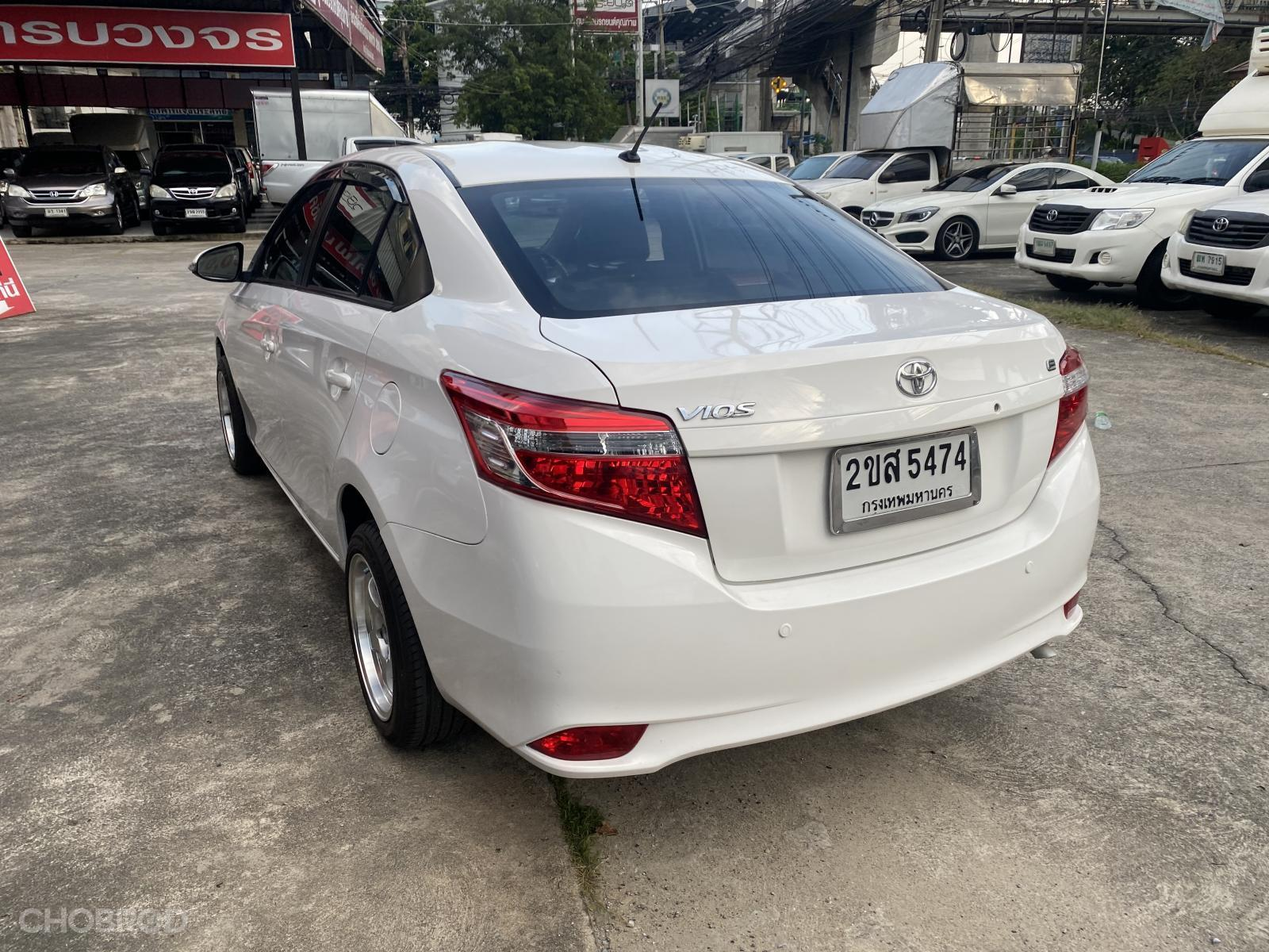license-plate: (829, 424, 988, 535), (1186, 245, 1227, 278), (1029, 237, 1055, 262), (39, 205, 69, 221), (186, 206, 208, 221)
